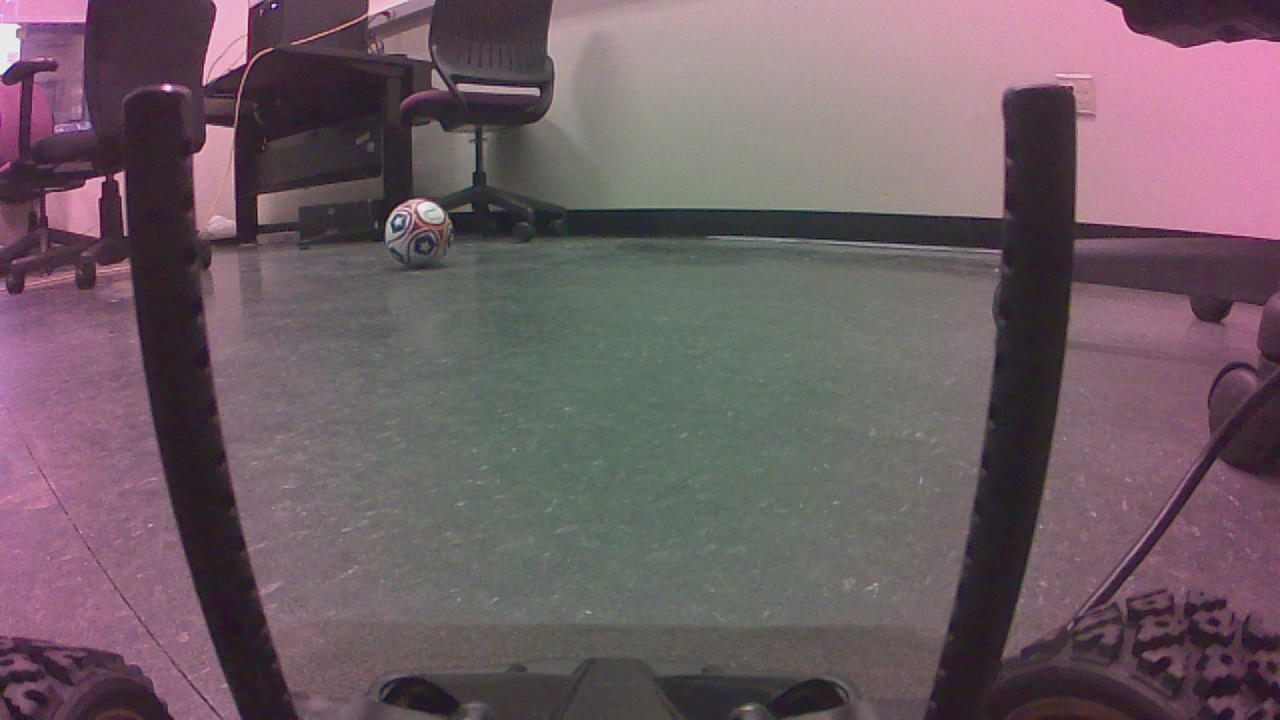ball: (391, 201, 461, 275)
